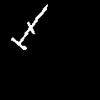double_crochet: (11, 5, 47, 49)
